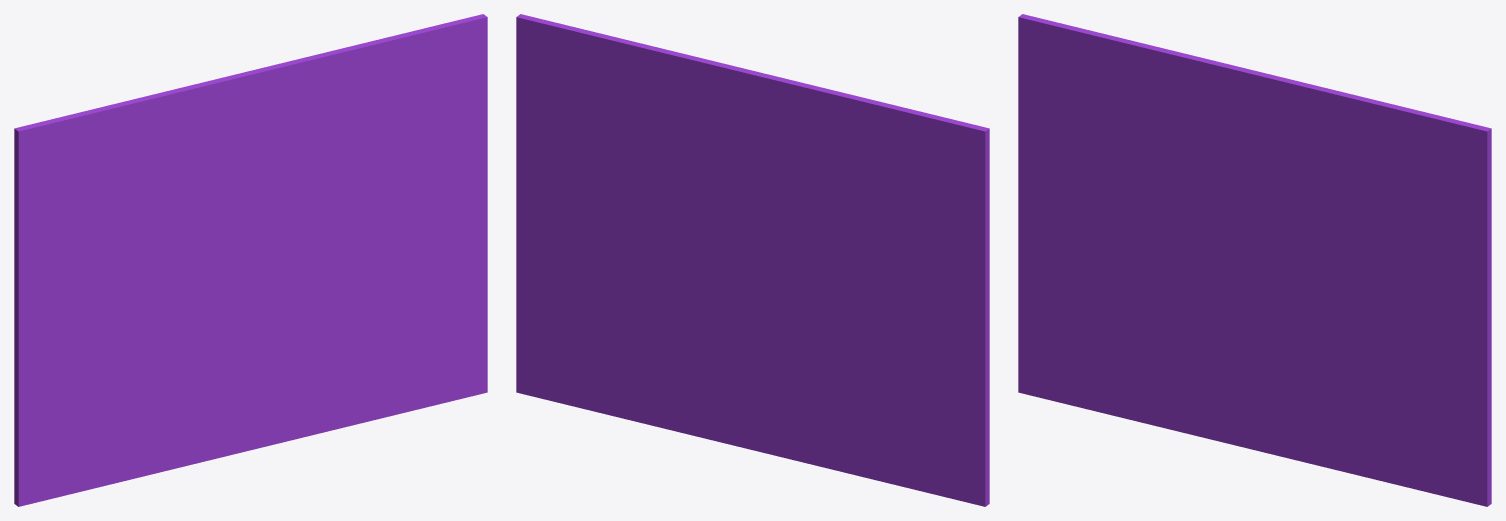
File: Glass_3_chunks.fbx
The picture shows the model from 3 angles, left to right: view 1: azimuth 30°, elevation 25°; view 2: azimuth 150°, elevation 25°; view 3: azimuth 330°, elevation 25°; orthographic projection.
Visible parts, largest first — view 1: Glass_3_0, Glass_3_1, Glass_3_6, Glass_3_5, Glass_3_4, Glass_3_2; view 2: Glass_3_0, Glass_3_1, Glass_3_2, Glass_3_6, Glass_3_5, Glass_3_4, Glass_3_3; view 3: Glass_3_1, Glass_3_0, Glass_3_6, Glass_3_5, Glass_3_4, Glass_3_2.
Part boxes in pixels (x1=…): Glass_3_0: x1=14, y1=155, x2=252, y2=506; Glass_3_1: x1=240, y1=71, x2=487, y2=452; Glass_3_6: x1=153, y1=29, x2=438, y2=164; Glass_3_5: x1=14, y1=94, x2=194, y2=224; Glass_3_4: x1=161, y1=134, x2=363, y2=263; Glass_3_2: x1=304, y1=14, x2=487, y2=217; Glass_3_0: x1=750, y1=158, x2=989, y2=506; Glass_3_1: x1=516, y1=79, x2=762, y2=452; Glass_3_2: x1=516, y1=14, x2=763, y2=265; Glass_3_6: x1=571, y1=26, x2=851, y2=158; Glass_3_5: x1=811, y1=95, x2=989, y2=221; Glass_3_4: x1=684, y1=142, x2=838, y2=253; Glass_3_3: x1=739, y1=152, x2=811, y2=173; Glass_3_1: x1=1240, y1=186, x2=1491, y2=506; Glass_3_0: x1=1018, y1=49, x2=1251, y2=446; Glass_3_6: x1=1155, y1=48, x2=1438, y2=187; Glass_3_5: x1=1018, y1=14, x2=1194, y2=179; Glass_3_4: x1=1161, y1=137, x2=1362, y2=263; Glass_3_2: x1=1303, y1=106, x2=1491, y2=242.
Bounding box in the file's own units: 1728 × 1321 × 27.2.
